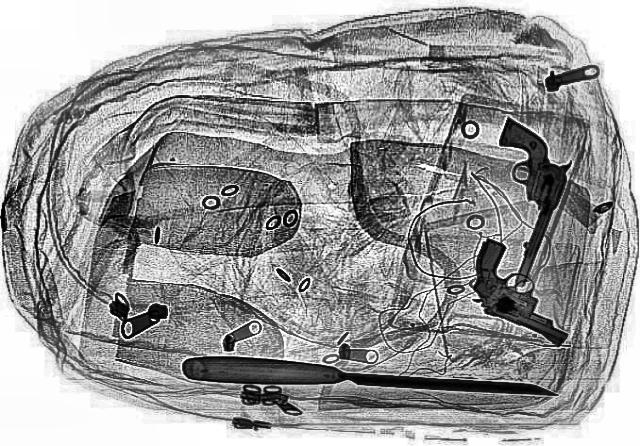Gun: (456, 115, 582, 287), (426, 236, 614, 350)
Knife: (179, 354, 559, 402)
